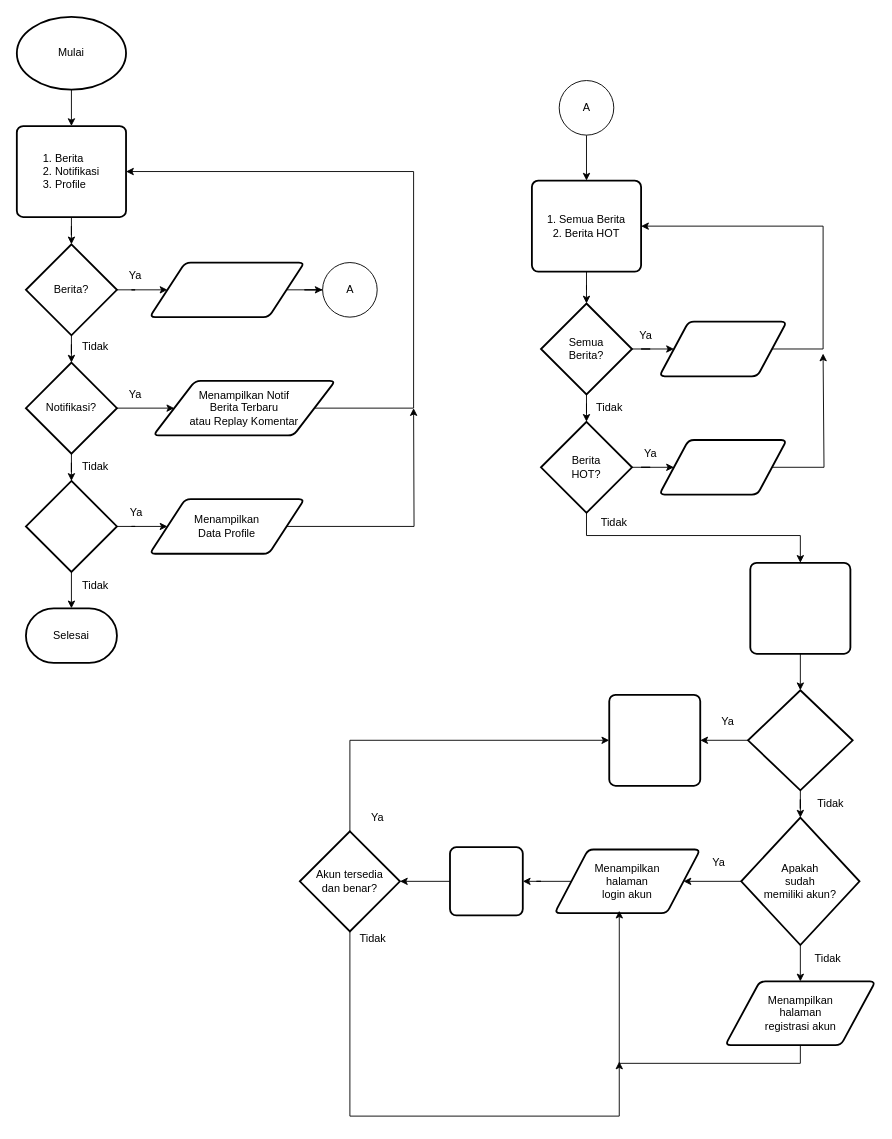
Image size: 892x1139. Some labels were removed from this diagram. The shapes that lost their labels are listed below. From the top down, each one's centre as x and y in pixels, then its label:
(226,289): Menampilkan Berita Terbaru
(722,348): Menampilkan Semua Berita
(722,467): Menampilkan Berita Trending
(71,526): Profile?
(800,607): Like atau Komen Berita
(654,739): Like Berita atau Komen Berita Diizinkan
(800,740): Apakah sudah Login?
(486,881): Validasi Akun
